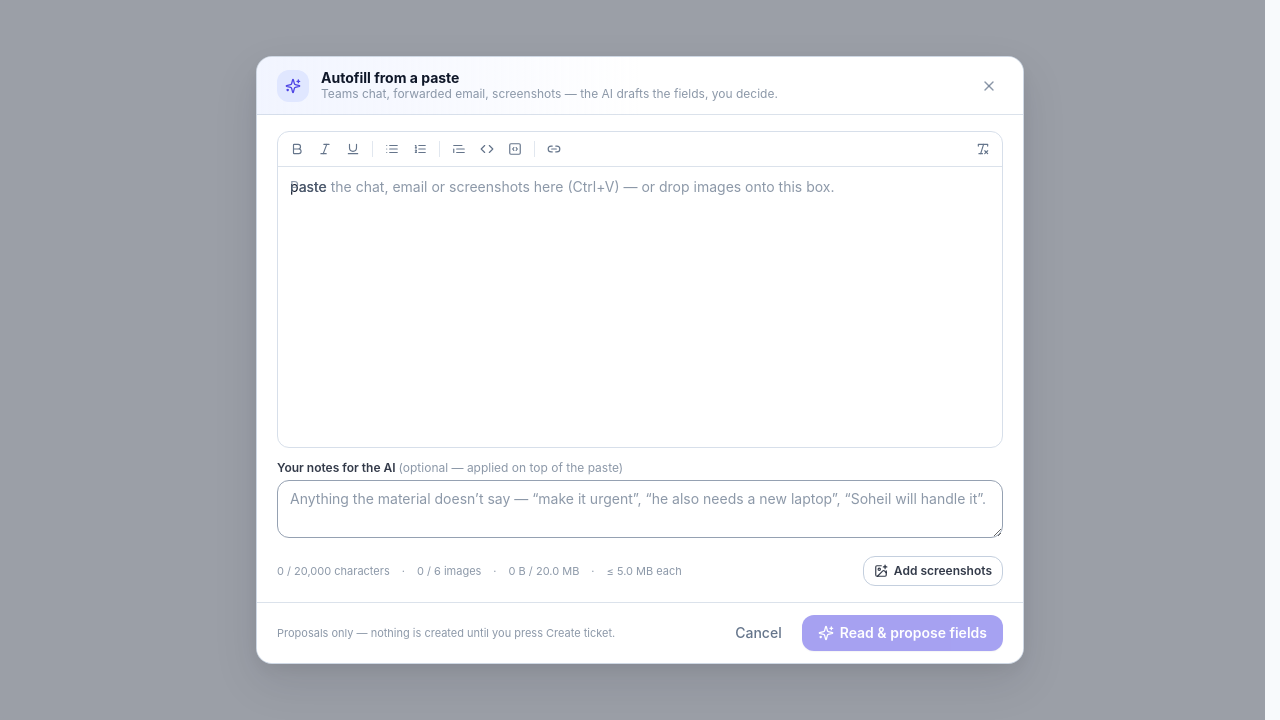
Test: AutofillModal — extract + review › 429 → "Slow down" copy, back on the compose step
The image size is (1280, 720).
Clear the field named "Pasted source material": (308, 187) [290, 178, 327, 195]
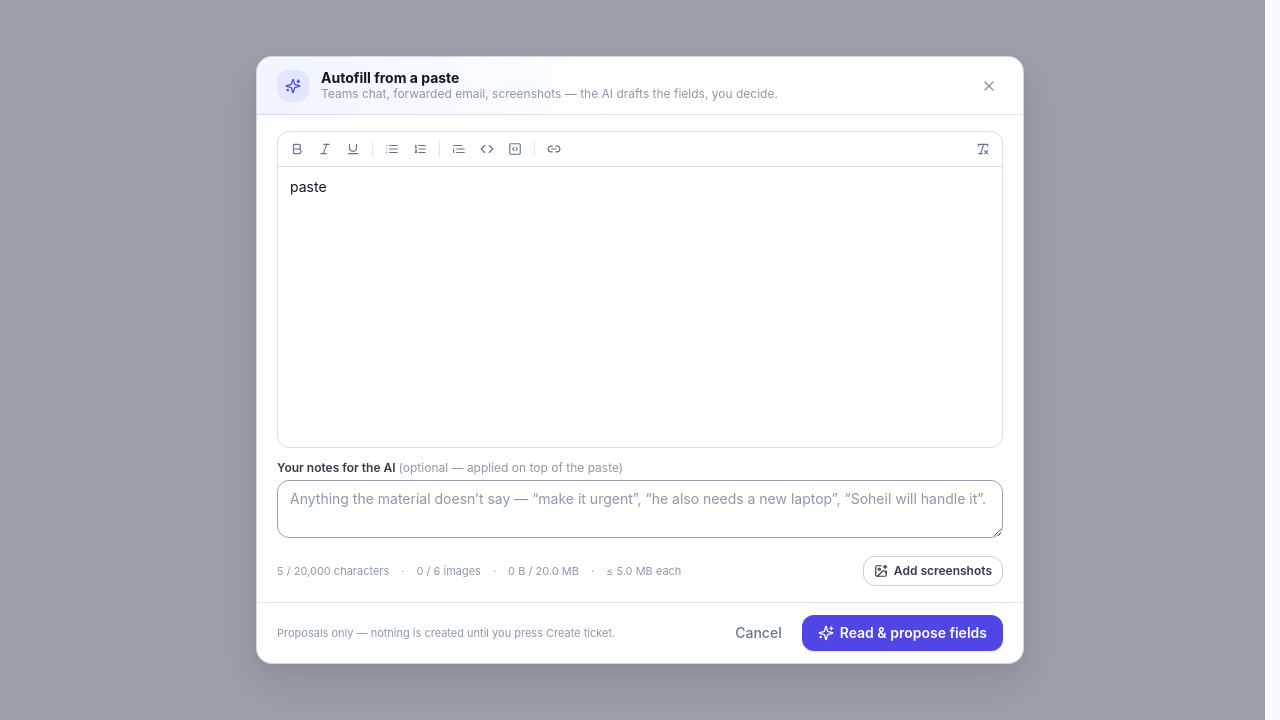
Click the button "Read & propose fields": click(902, 633) [802, 615, 1003, 651]
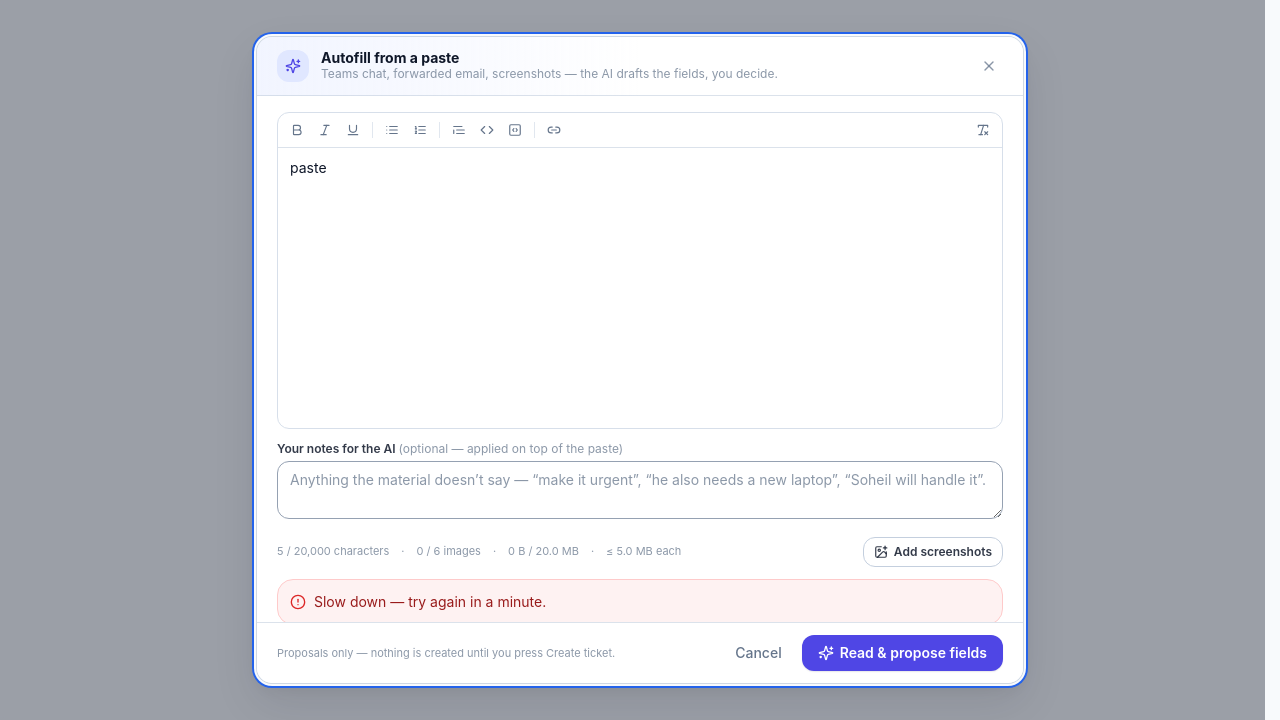
Expected: the field named "Pasted source material" is shown, [290, 158, 327, 176]
Expected: the message reads "Slow down — try again in a minute.", [314, 592, 546, 610]
